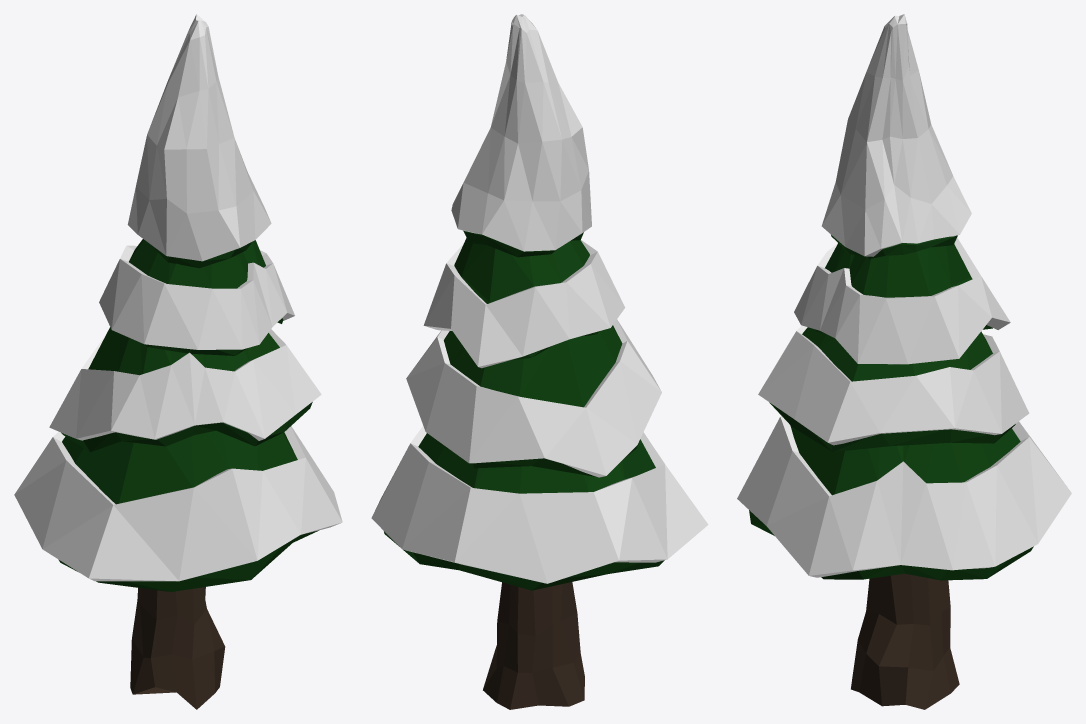
Rendered from pine_tree_3_snow.glb.
The picture shows the model from 3 angles, left to right: view 1: azimuth 30°, elevation 25°; view 2: azimuth 150°, elevation 25°; view 3: azimuth 270°, elevation 25°; orthographic projection. The views are drawn at different scales.
Visible parts, largest first — view 1: pine_tree_3_snow_snow, pine_tree_3_snow; view 2: pine_tree_3_snow_snow, pine_tree_3_snow; view 3: pine_tree_3_snow_snow, pine_tree_3_snow.
Boxes of the visible parts, bbox=[...] form: pine_tree_3_snow_snow: bbox=[14, 14, 342, 581]; pine_tree_3_snow: bbox=[58, 239, 318, 709]; pine_tree_3_snow_snow: bbox=[371, 14, 708, 583]; pine_tree_3_snow: bbox=[384, 230, 664, 709]; pine_tree_3_snow_snow: bbox=[737, 14, 1071, 577]; pine_tree_3_snow: bbox=[749, 235, 1033, 709].
Bounding box in the file's own units: 1.69 × 4.09 × 1.8.
